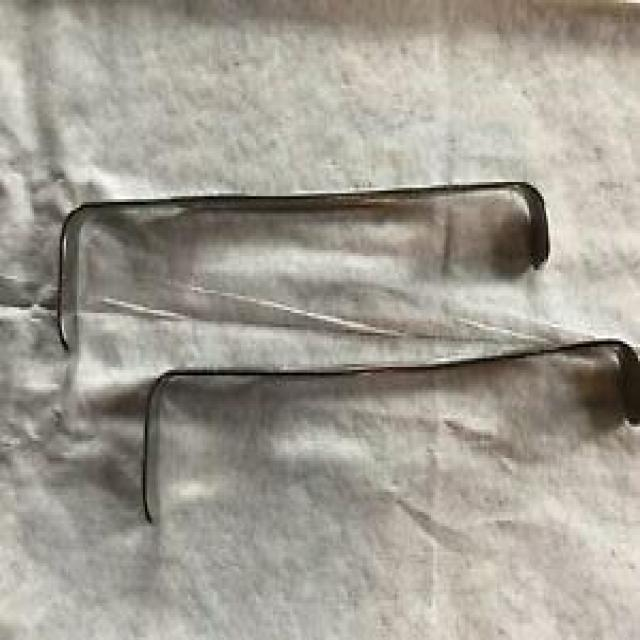Army_navy: (138, 335, 640, 529), (54, 176, 552, 358)
